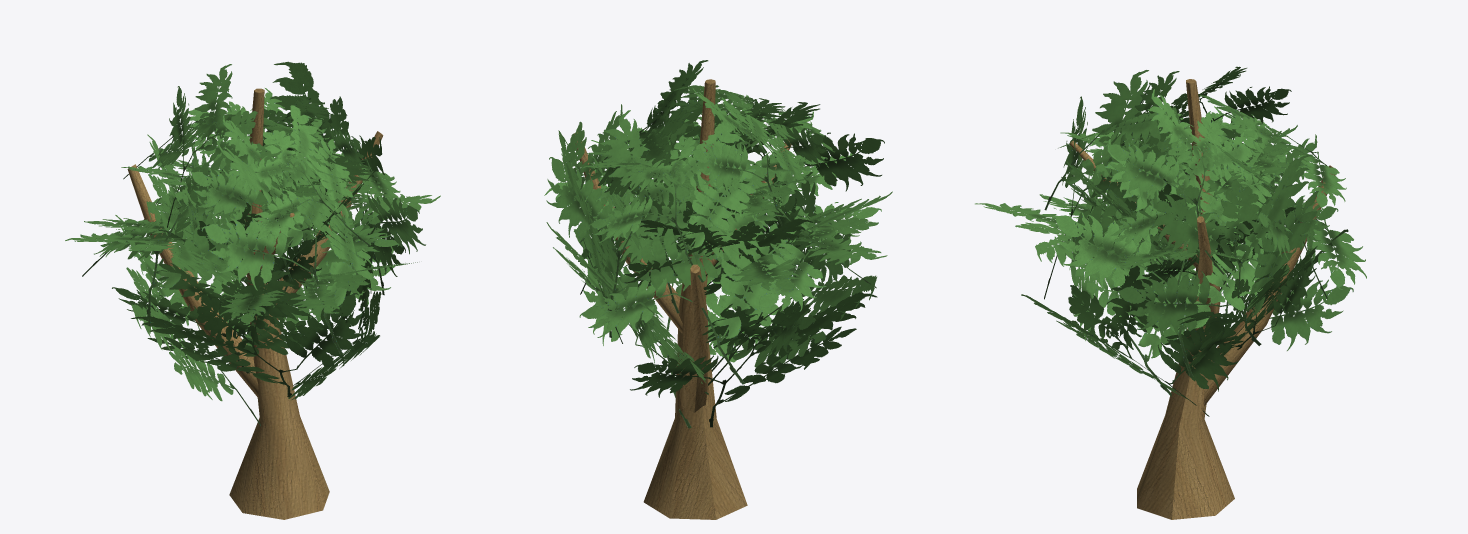
File: orchard.glb
3 views of the same model, side by side, from view 1: azimuth 30°, elevation 25°; view 2: azimuth 150°, elevation 25°; view 3: azimuth 270°, elevation 25° (orthographic). The views are drawn at different scales.
Visible parts, largest first — view 1: stk_autumnSmallBush_a.png__, stktex_generic_WoodB.png__; view 2: stk_autumnSmallBush_a.png__, stktex_generic_WoodB.png__; view 3: stk_autumnSmallBush_a.png__, stktex_generic_WoodB.png__.
Boxes of the visible parts, <box> form: stk_autumnSmallBush_a.png__: <box>65,61,440,426</box>; stktex_generic_WoodB.png__: <box>127,88,383,519</box>; stk_autumnSmallBush_a.png__: <box>544,60,892,428</box>; stktex_generic_WoodB.png__: <box>571,79,791,519</box>; stk_autumnSmallBush_a.png__: <box>975,66,1366,416</box>; stktex_generic_WoodB.png__: <box>1069,79,1335,519</box>.
Bounding box in the file's own units: 11.88 × 13.2 × 13.61.
Materials: 2 (2 with a texture image).
